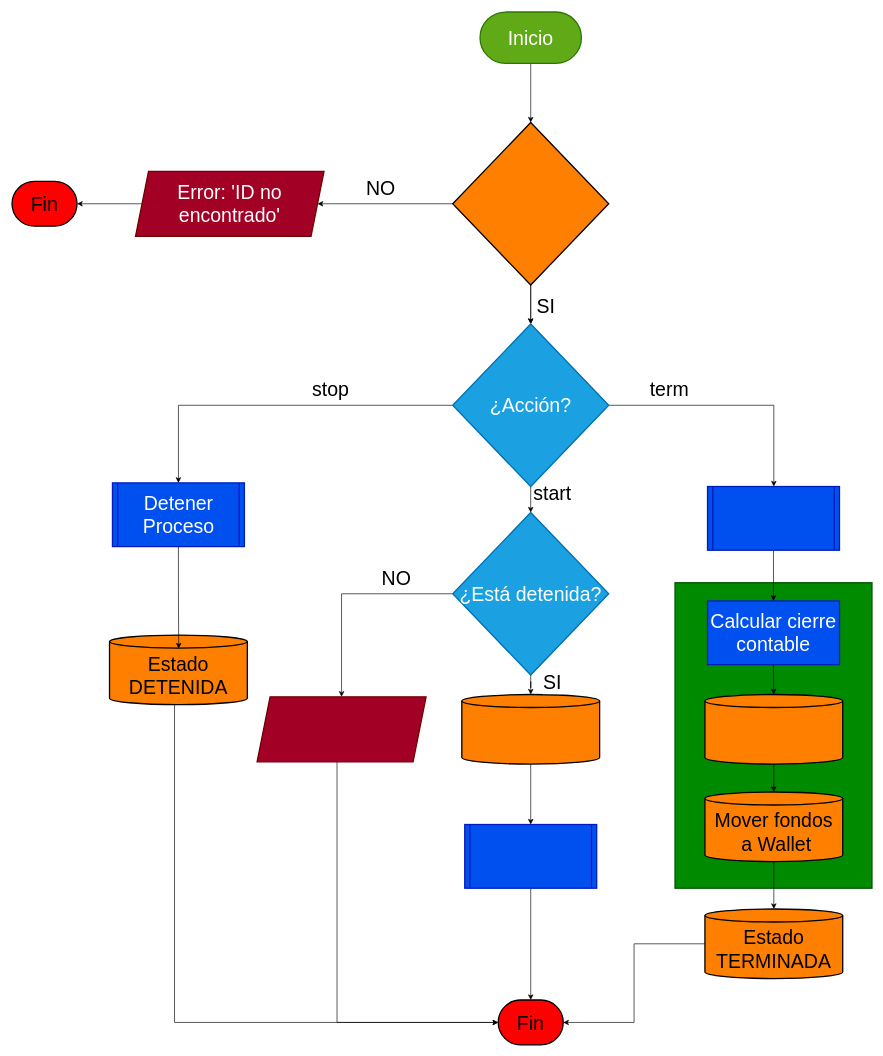
This 883x1056 diagram has some shape labels left out. The shapes that lost their labels are listed below. From the top down, each one's centre as x and y in pixels, then its label:
At point (530, 203): "¿Existe Estrategia?".
At point (773, 518): "Forzar detención".
At point (341, 729): "Error: 'Estado incorrecto'".
At point (530, 729): "Estado ACTIVA".
At point (773, 729): "Registrar cierre".
At point (530, 856): "Lanzar Proceso".
